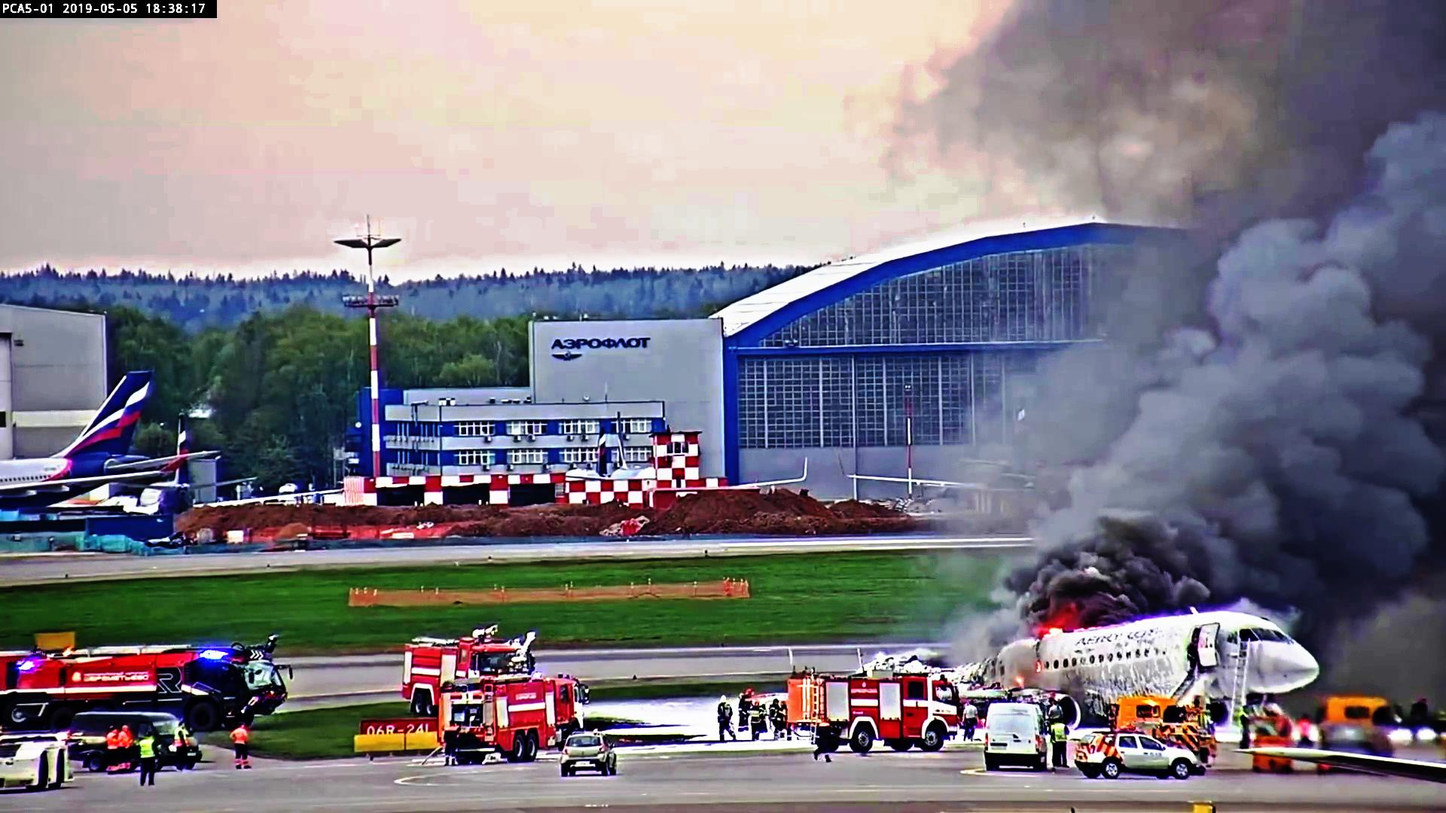smoke: (1123, 221, 1416, 602), (1002, 526, 1197, 621)
